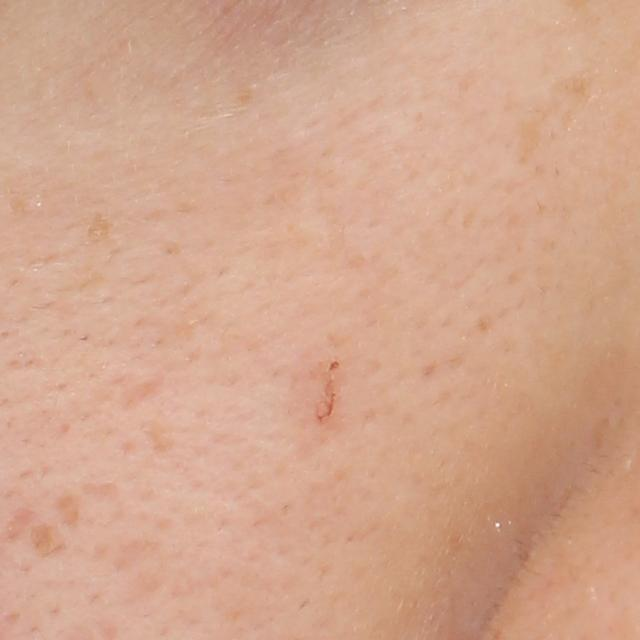atrophic_scar: (2, 502, 41, 543), (125, 373, 168, 407), (56, 490, 85, 533), (30, 518, 59, 560)
melasma: (505, 73, 597, 169)
other: (314, 357, 340, 423)
